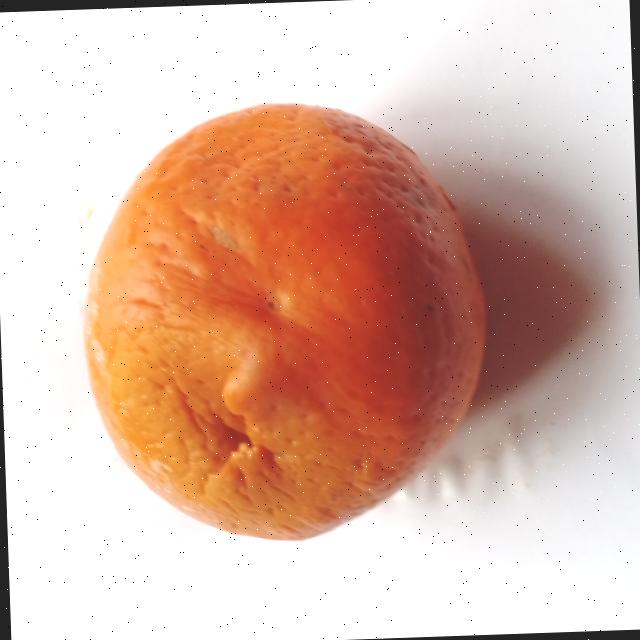Rotten: (73, 91, 496, 545)
